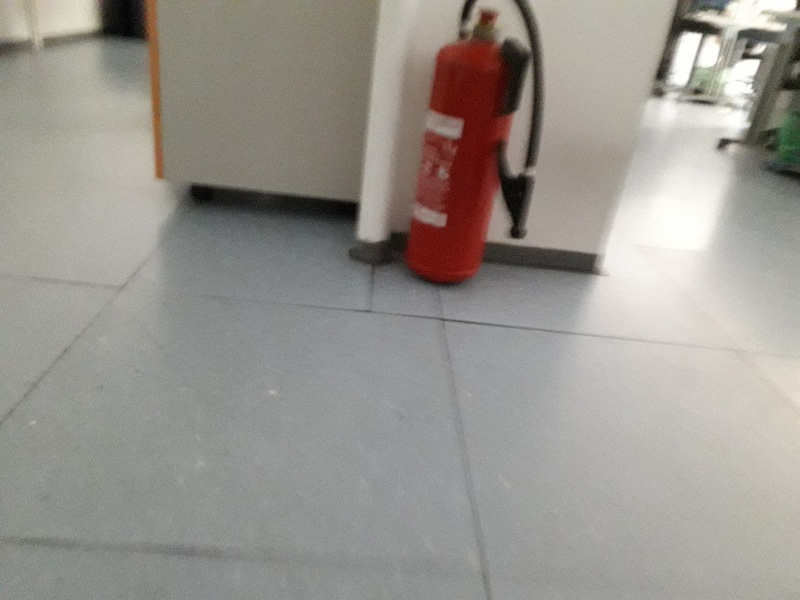vataparat: (400, 1, 545, 285)
